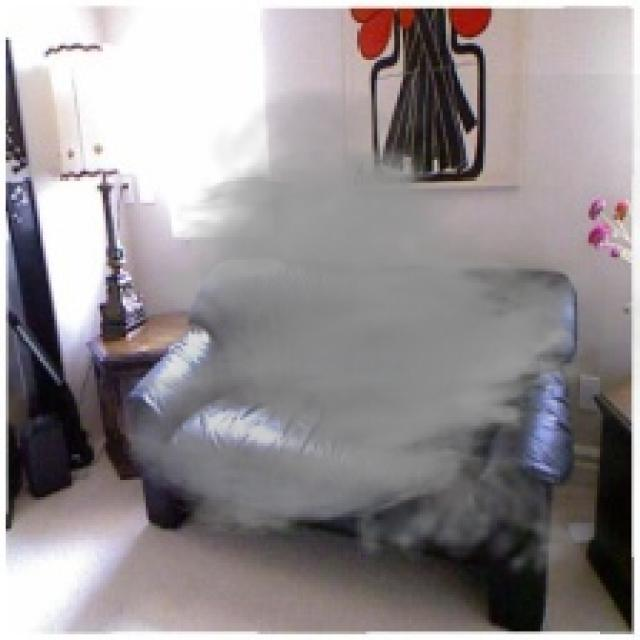smoke: (112, 75, 637, 594)
